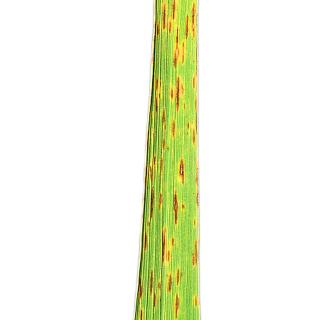Bercak-Cokelat-Sempit: (153, 2, 206, 43), (152, 72, 201, 111), (150, 155, 206, 184), (158, 228, 182, 267), (168, 44, 197, 65), (134, 231, 152, 253), (190, 236, 200, 274), (144, 187, 154, 221), (172, 192, 182, 225), (191, 192, 206, 210), (188, 123, 202, 142), (155, 114, 169, 129), (158, 191, 165, 214), (174, 294, 181, 316), (169, 123, 180, 135), (159, 138, 170, 150), (136, 307, 146, 320), (137, 284, 145, 300), (192, 294, 200, 310), (148, 271, 152, 297), (170, 275, 175, 295), (151, 298, 159, 308), (157, 280, 162, 291)
